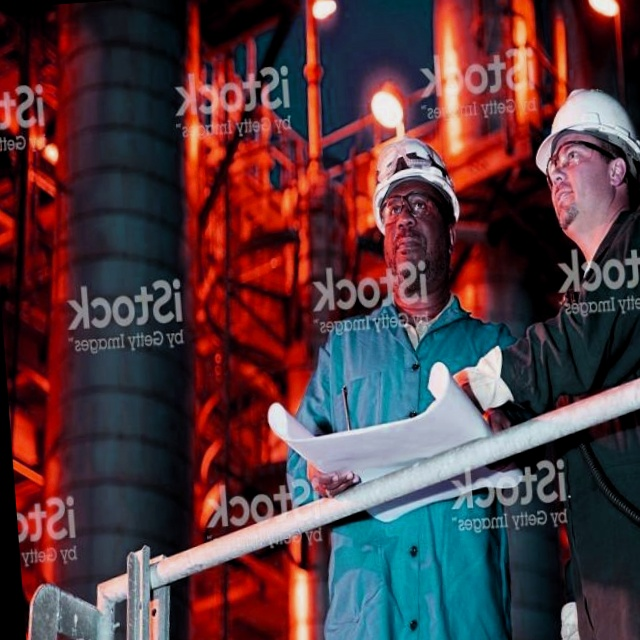Con_Casco: (530, 82, 640, 243), (366, 134, 465, 270)
